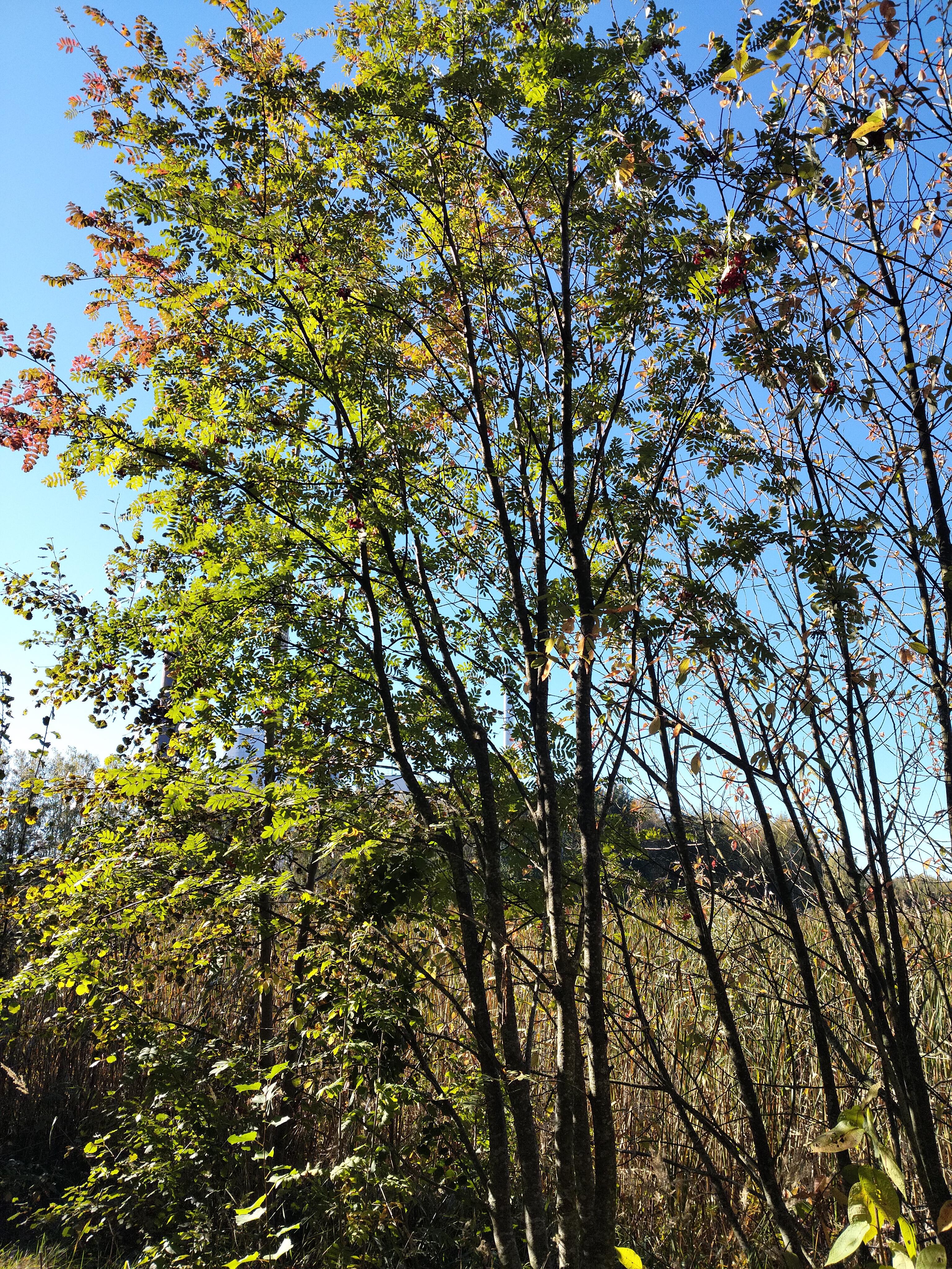Rowan: (154, 1, 708, 1254)
